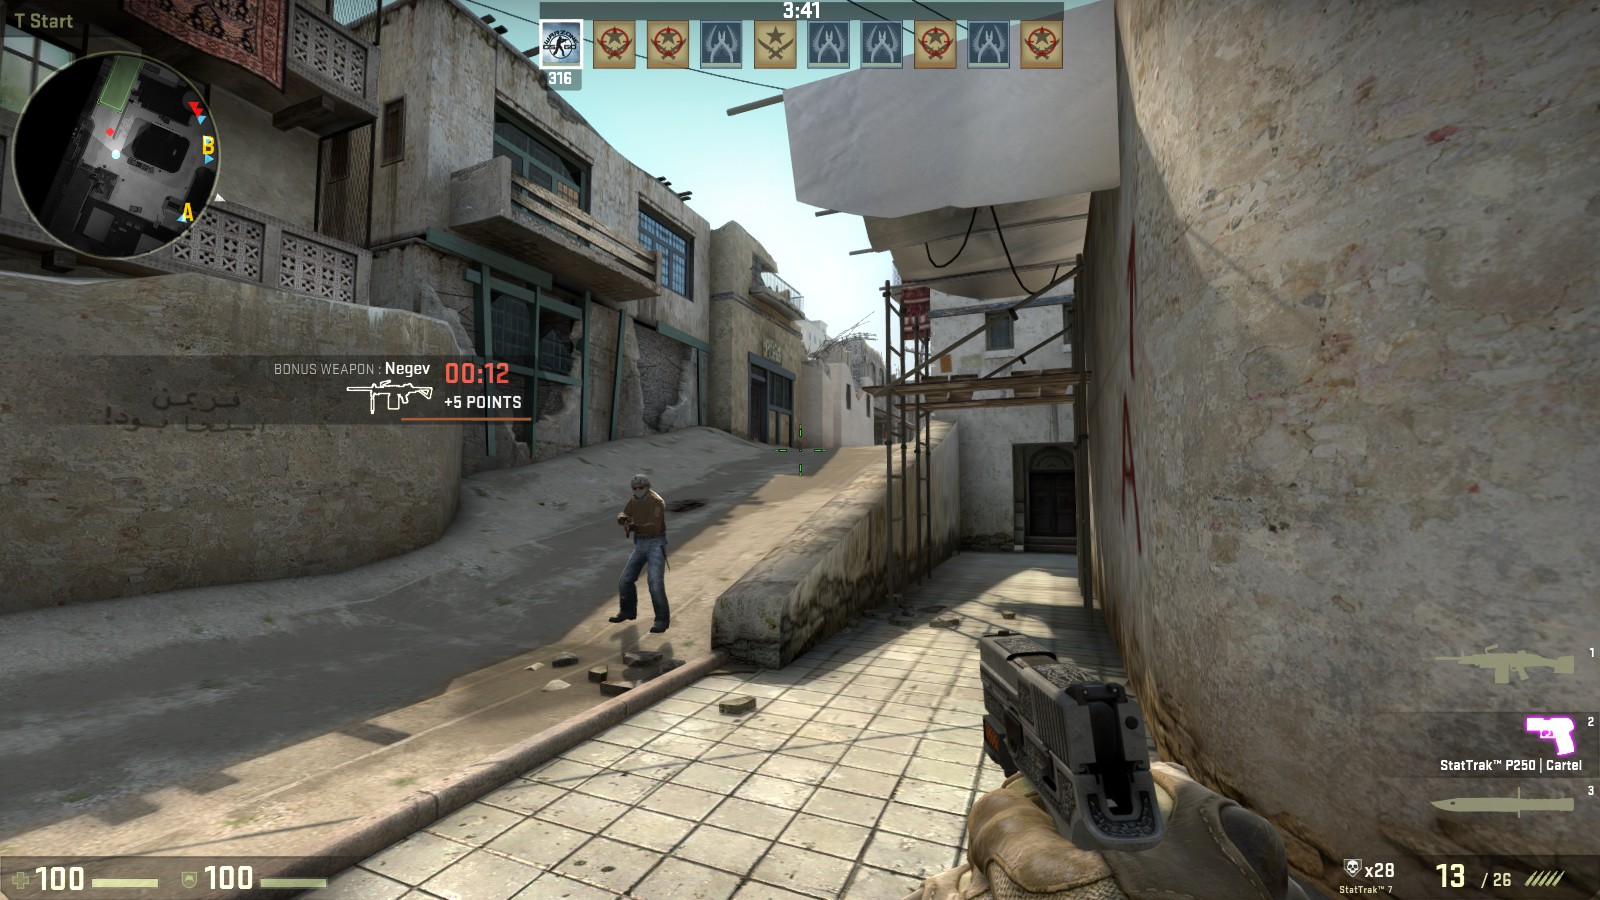t: (616, 473, 670, 633)
th: (630, 473, 651, 500)
